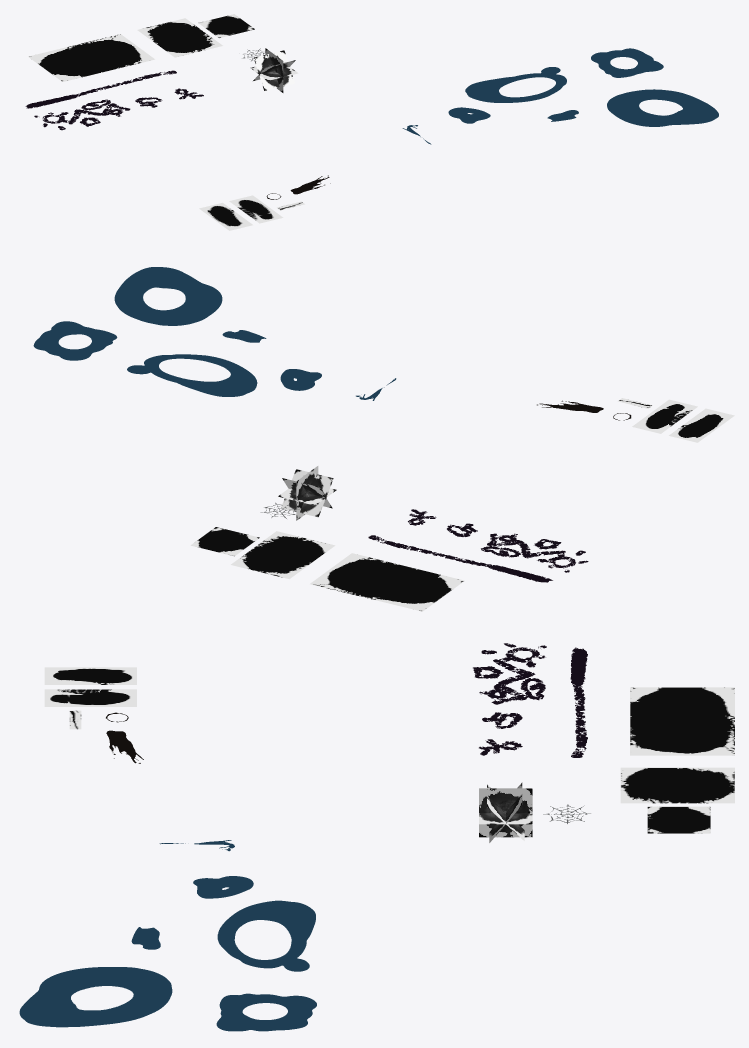
File: SM_Stain_Parent.fbx
3 renders of one model, top to bottom at view 1: azimuth 30°, elevation 25°; view 2: azimuth 150°, elevation 25°; view 3: azimuth 270°, elevation 25°, orthographic. The views are drawn at different scales.
Visible parts, largest first — view 1: 탄자국, 물웅덩이4, 탄자국2, 물웅덩이, 물웅덩이2, 크레파스 자국2, 컵자국, 발자국1, 발자국2, 작은 크레파스 낙서004, 크레파스 자국, 물자국; view 2: 탄자국, 물웅덩이4, 탄자국2, 물웅덩이, 물웅덩이2, 크레파스 자국2, 컵자국, 발자국1, 발자국2, 크레파스 자국, 작은 크레파스 낙서003, 물자국; view 3: 탄자국, 물웅덩이4, 탄자국2, 물웅덩이, 물웅덩이2, 크레파스 자국2, 컵자국, 발자국1, 발자국2, 작은 크레파스 낙서005, 크레파스 자국, 물자국.
Part boxes in pixels (x1,y1,x2,y2): 탄자국: [28, 34, 154, 81]; 물웅덩이4: [607, 89, 718, 126]; 탄자국2: [137, 18, 222, 57]; 물웅덩이: [465, 67, 566, 102]; 물웅덩이2: [591, 48, 663, 77]; 크레파스 자국2: [34, 99, 130, 130]; 컵자국: [198, 14, 254, 37]; 발자국1: [199, 202, 252, 230]; 발자국2: [229, 195, 283, 223]; 작은 크레파스 낙서004: [253, 50, 295, 90]; 크레파스 자국: [25, 70, 176, 108]; 물자국: [448, 107, 490, 123]; 탄자국: [310, 553, 464, 611]; 물웅덩이4: [114, 267, 222, 325]; 탄자국2: [231, 531, 335, 579]; 물웅덩이: [127, 354, 257, 396]; 물웅덩이2: [33, 321, 117, 360]; 크레파스 자국2: [481, 533, 588, 572]; 컵자국: [190, 527, 259, 556]; 발자국1: [669, 408, 734, 442]; 발자국2: [632, 399, 697, 433]; 크레파스 자국: [368, 535, 552, 582]; 작은 크레파스 낙서003: [281, 469, 333, 517]; 물자국: [280, 369, 321, 390]; 탄자국: [630, 687, 734, 755]; 물웅덩이4: [19, 967, 172, 1027]; 탄자국2: [620, 767, 734, 803]; 물웅덩이: [217, 900, 315, 971]; 물웅덩이2: [216, 993, 316, 1031]; 크레파스 자국2: [473, 643, 546, 704]; 컵자국: [647, 806, 710, 833]; 발자국1: [44, 667, 136, 684]; 발자국2: [44, 689, 136, 706]; 작은 크레파스 낙서005: [479, 788, 532, 837]; 크레파스 자국: [570, 647, 587, 757]; 물자국: [193, 876, 253, 898].
Size of the model in its own units: 129 by 7.46 by 99.79.
